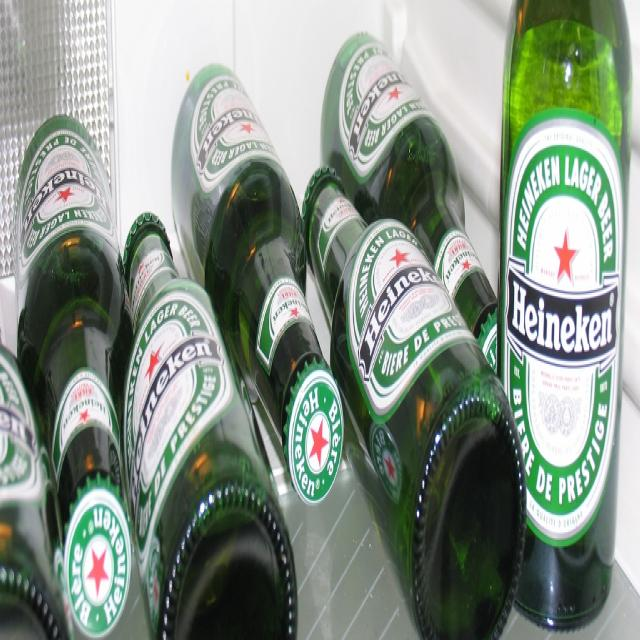heineken: (8, 288, 236, 579), (503, 119, 625, 546), (349, 220, 475, 424), (18, 131, 118, 263), (339, 41, 431, 178), (192, 74, 280, 192), (2, 356, 45, 504)
